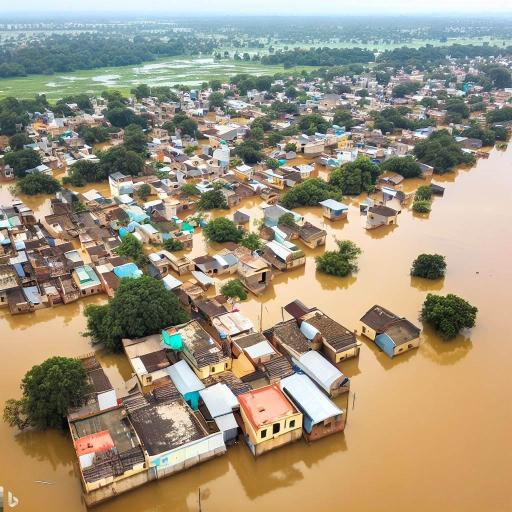flood: (88, 142, 512, 512), (0, 296, 104, 416), (0, 420, 86, 512), (0, 180, 54, 220), (207, 196, 264, 232), (188, 228, 231, 259), (287, 154, 333, 181), (66, 180, 110, 197), (52, 168, 65, 181)
house: (130, 397, 226, 481), (69, 407, 149, 505), (239, 381, 301, 455), (163, 318, 233, 376), (301, 305, 359, 361), (361, 303, 419, 357), (120, 335, 176, 387), (298, 349, 350, 400), (202, 383, 244, 444), (74, 351, 118, 407), (163, 358, 206, 402), (263, 237, 305, 271), (237, 256, 272, 294), (262, 201, 304, 227), (4, 289, 37, 317), (108, 260, 146, 284), (298, 222, 328, 251), (75, 264, 102, 296), (205, 254, 241, 276), (321, 197, 349, 223), (368, 202, 394, 226), (108, 171, 134, 195), (299, 135, 327, 157), (139, 221, 163, 246)
